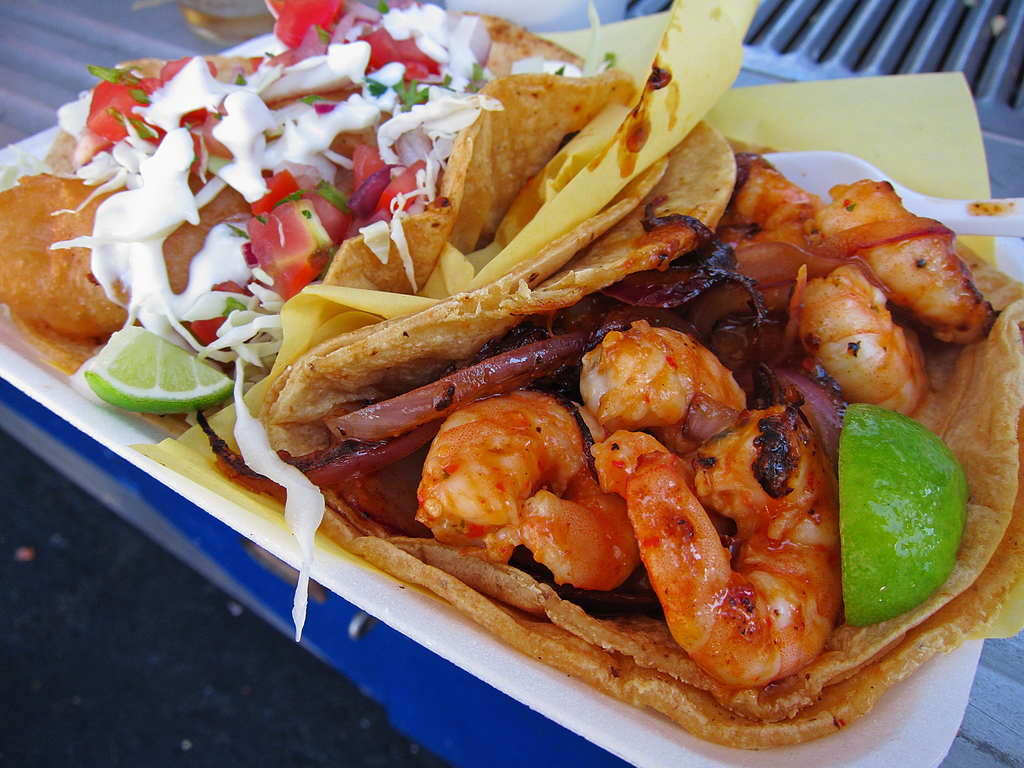taco: (268, 161, 1023, 749), (241, 72, 746, 477), (50, 15, 592, 318)
